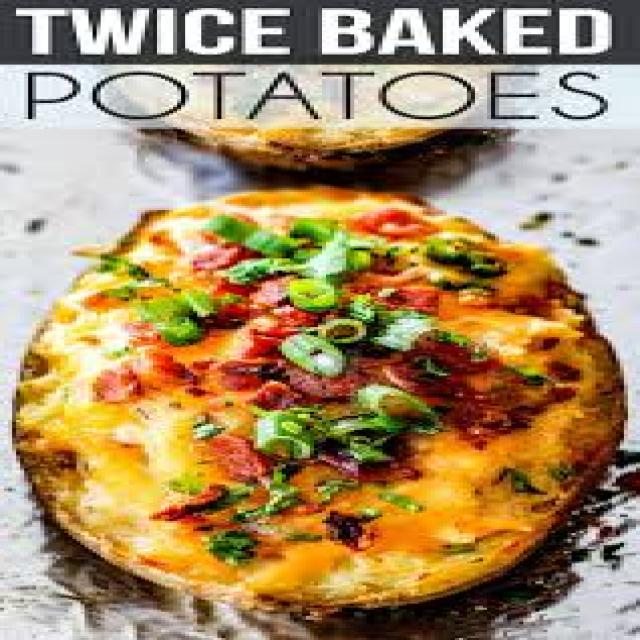Baked Potato: (2, 184, 640, 612)
